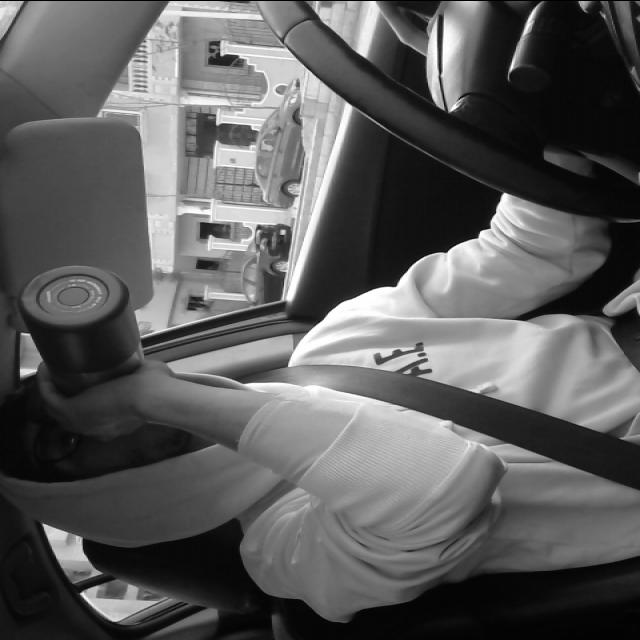drinking: (12, 262, 146, 424)
